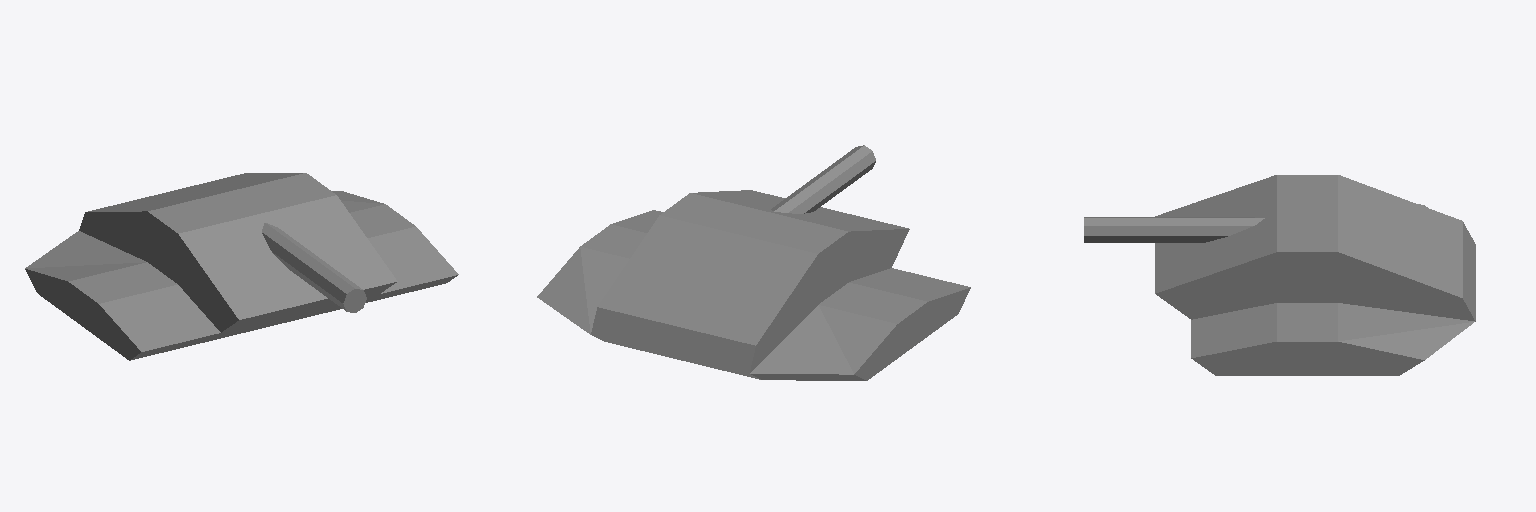
The model's file is Tank1.obj.
3 views of the same model, side by side, from view 1: azimuth 30°, elevation 25°; view 2: azimuth 150°, elevation 25°; view 3: azimuth 270°, elevation 25° (orthographic).
Visible parts, largest first — view 1: Box13; view 2: Box13; view 3: Box13.
Boxes of the visible parts, <box> form: Box13: <box>25,173,458,360</box>; Box13: <box>537,145,970,380</box>; Box13: <box>1084,175,1475,375</box>.
Size of the model in its own units: 4 by 1.03 by 4.27.